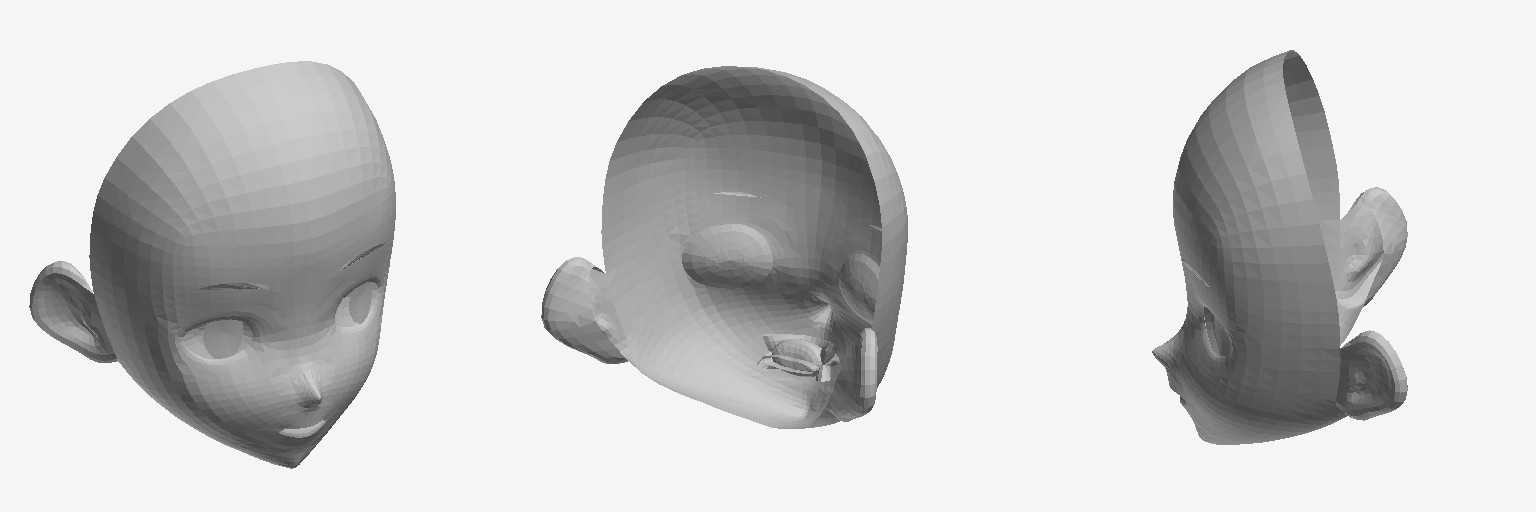
File: eyeLookOutLeft.obj
3 views of the same model, side by side, from view 1: azimuth 30°, elevation 25°; view 2: azimuth 150°, elevation 25°; view 3: azimuth 270°, elevation 25° (orthographic).
Visible parts, largest first — view 1: Face; view 2: Face; view 3: Face.
Part boxes in pixels (bbox=[...]): Face: bbox=[29, 61, 395, 468]; Face: bbox=[541, 66, 907, 428]; Face: bbox=[1152, 50, 1407, 444].
Size of the model in its own units: 0.2176 by 0.2333 by 0.1449.